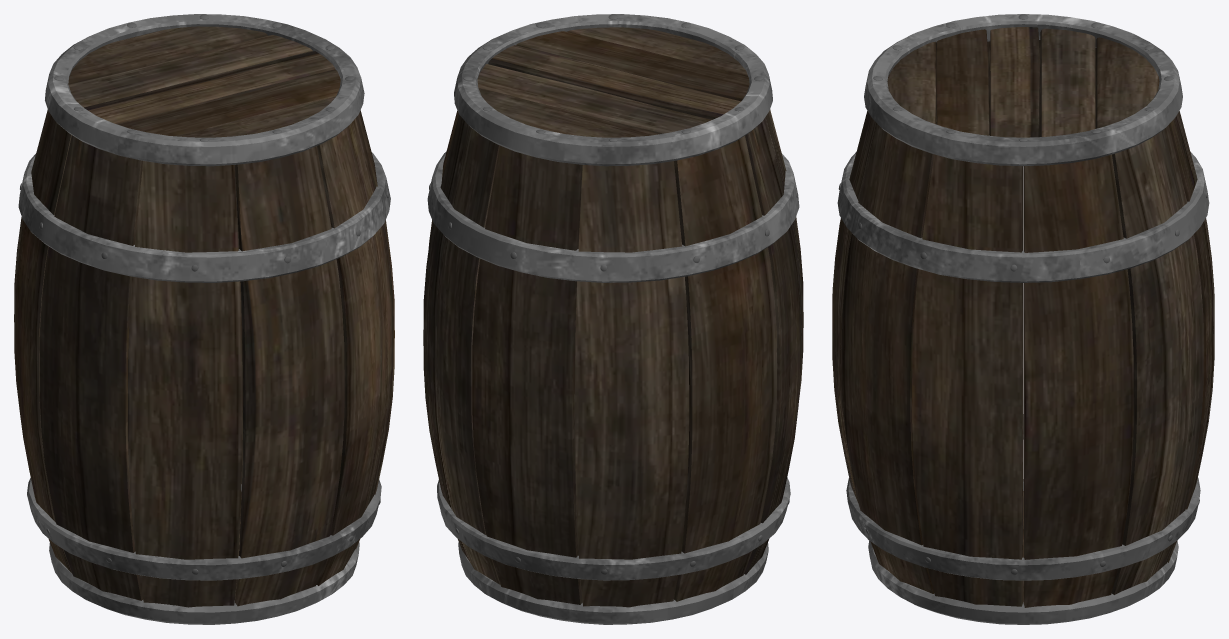
The model's file is val_barrel.glb.
The picture shows the model from 3 angles, left to right: view 1: azimuth 30°, elevation 25°; view 2: azimuth 150°, elevation 25°; view 3: azimuth 270°, elevation 25°; orthographic projection.
Visible parts, largest first — view 1: KB3D_VAL_BldgSM_I_BarrelA; view 2: KB3D_VAL_BldgSM_I_BarrelA; view 3: KB3D_VAL_BldgSM_I_BarrelA.
Part boxes in pixels (left/top/right/bottom): KB3D_VAL_BldgSM_I_BarrelA: left=14, top=14, right=394, bottom=624; KB3D_VAL_BldgSM_I_BarrelA: left=423, top=14, right=803, bottom=624; KB3D_VAL_BldgSM_I_BarrelA: left=832, top=14, right=1214, bottom=624.
Bounding box in the file's own units: 0.7627 × 1.07 × 0.7627.
3 materials, 3 textured.
